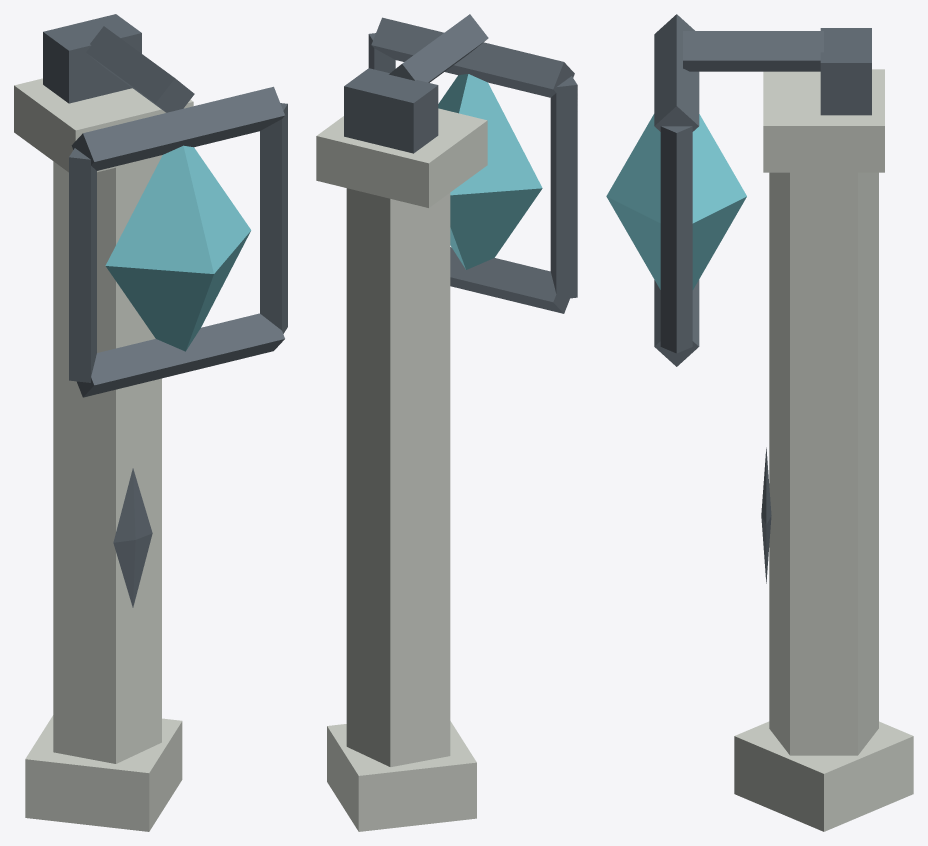
Rendered from Mountain_LampPost.fbx.
3 views of the same model, side by side, from view 1: azimuth 30°, elevation 25°; view 2: azimuth 150°, elevation 25°; view 3: azimuth 270°, elevation 25° (orthographic). The views are drawn at different scales.
Visible parts, largest first — view 1: Mountain_LampPost; view 2: Mountain_LampPost; view 3: Mountain_LampPost.
Part boxes in pixels (box(x1,y1,x2,y2)): Mountain_LampPost: box(14, 14, 287, 831); Mountain_LampPost: box(316, 14, 577, 831); Mountain_LampPost: box(606, 14, 913, 831).
Size of the model in its own units: 39 by 131 by 48.
